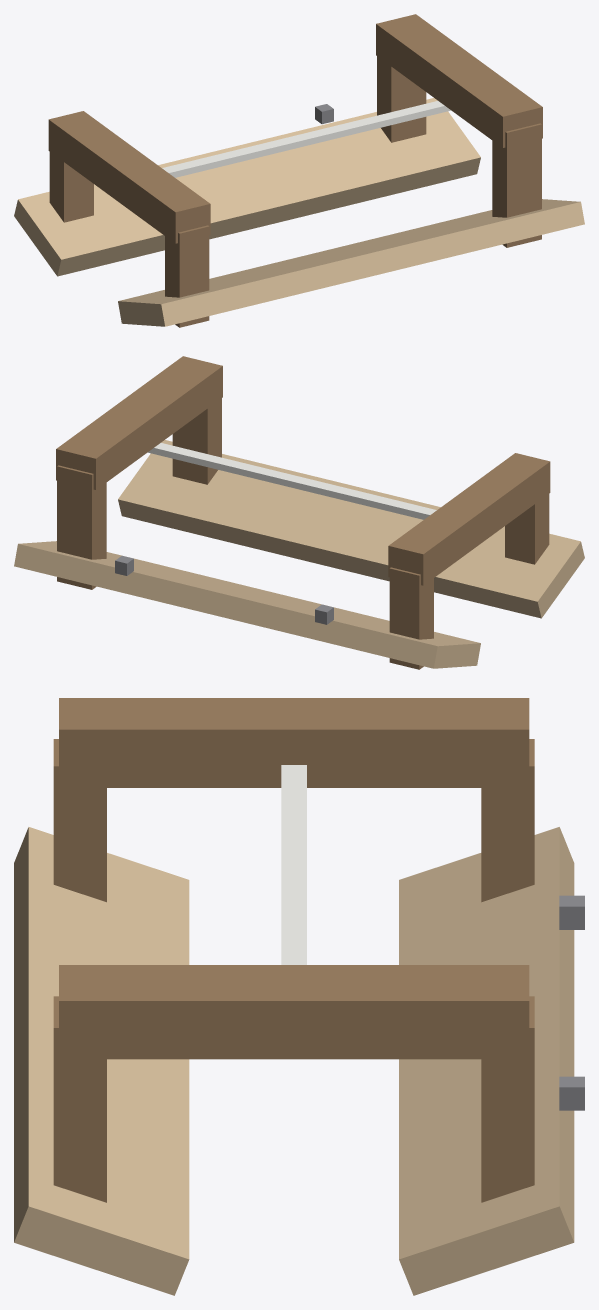
The model's file is prop-saddle-tree-blank.fbx.
3 views of the same model, one above another, from view 1: azimuth 30°, elevation 25°; view 2: azimuth 150°, elevation 25°; view 3: azimuth 270°, elevation 25° (orthographic). The views are drawn at different scales.
Visible parts, largest first — view 1: prop-saddle-tree-blank; view 2: prop-saddle-tree-blank; view 3: prop-saddle-tree-blank.
Boxes of the visible parts, x1=… form: prop-saddle-tree-blank: x1=14, y1=14, x2=584, y2=327; prop-saddle-tree-blank: x1=14, y1=356, x2=584, y2=669; prop-saddle-tree-blank: x1=14, y1=698, x2=584, y2=1295.
Bounding box in the file's own units: 42 × 13.81 × 26.7.
